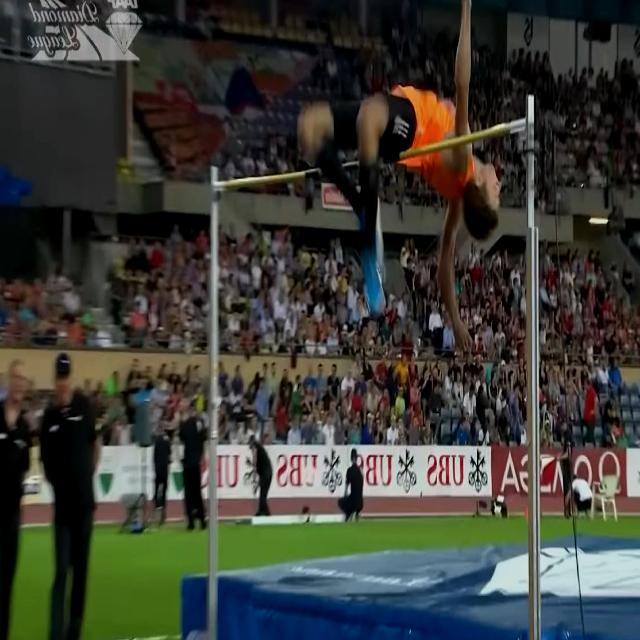jump: (304, 0, 500, 352)
